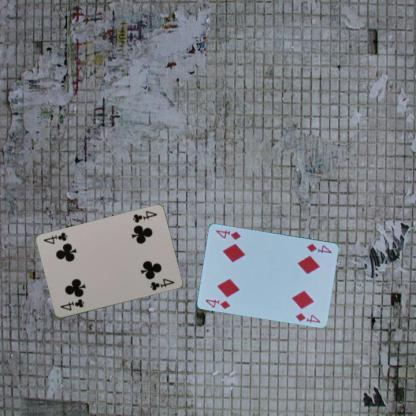4c: (57, 296, 86, 312), (130, 208, 158, 224)
4d: (304, 240, 334, 255), (203, 296, 232, 310)
